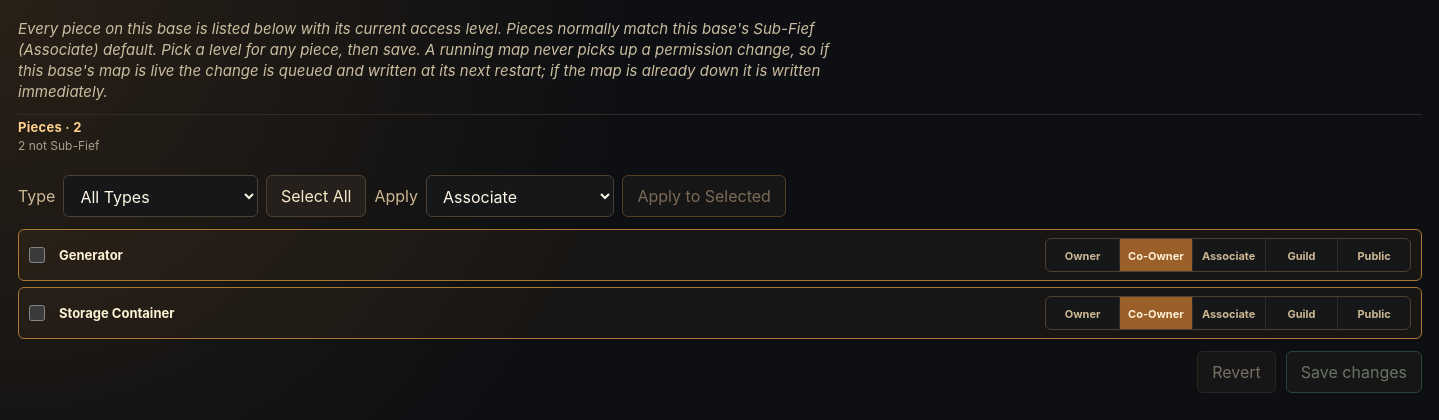
Test: BaseChildPermissionsTab › filters the list by master category, and Select All only selects the currently visible pieces
The width and height of the screenshot is (1439, 420).
Expected: the text "Generator" is shown, [59,247,123,263]
Select "Generators" in the dropdown labelled "Type" at coordinates (161, 196), box [64,175,258,217]
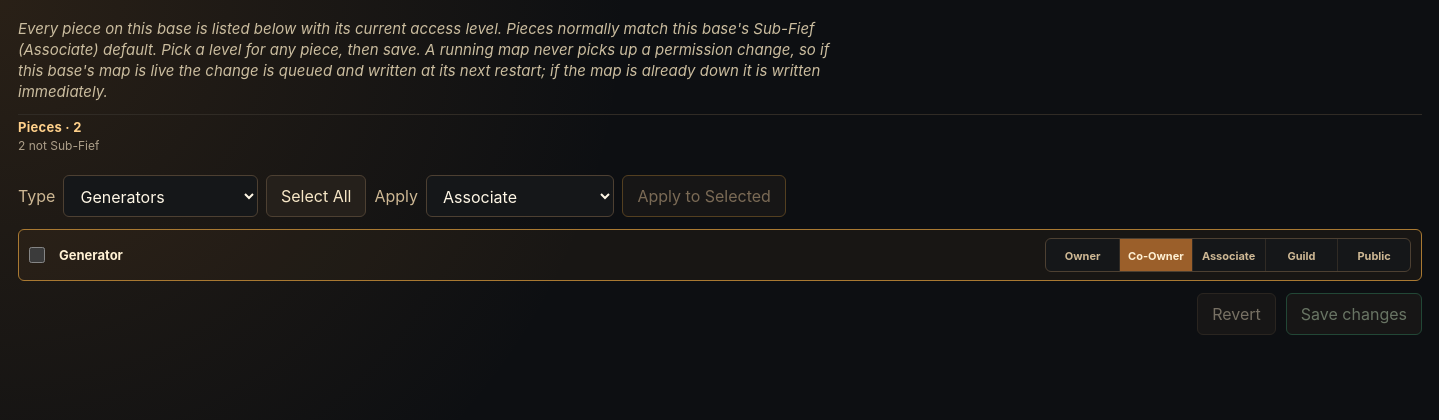
Expected: the text "Generator" is shown, [59,247,123,263]
Expected: the text "Storage Container" is gone
Click the button "Select All".
click(316, 196)  # box [266,175,366,217]
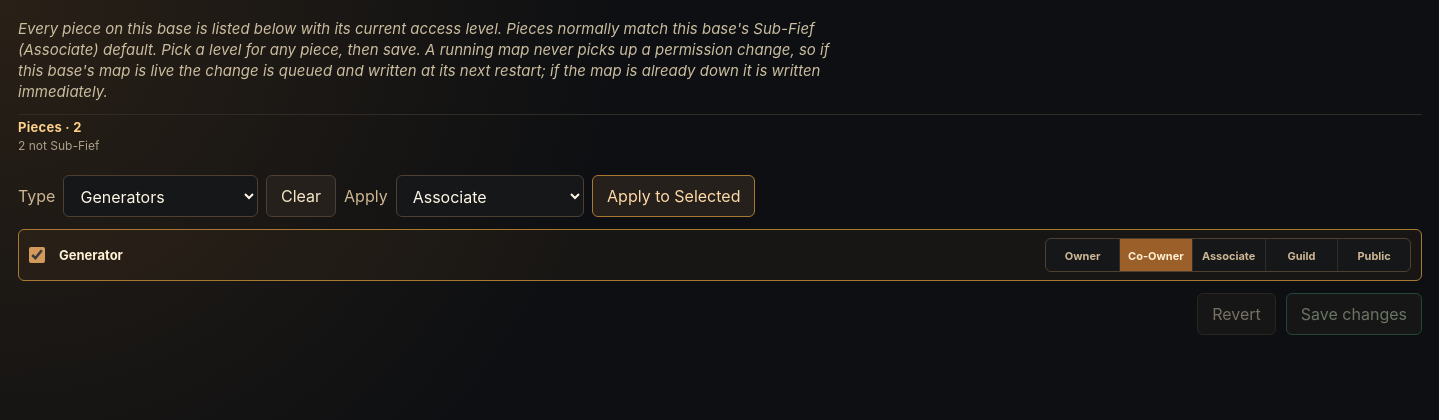
Expected: the checkbox named "Select Generator" is checked, [29,247,45,263]
Select "All Types" in the dropdown labelled "Type" at coordinates (161, 196), box [64,175,258,217]
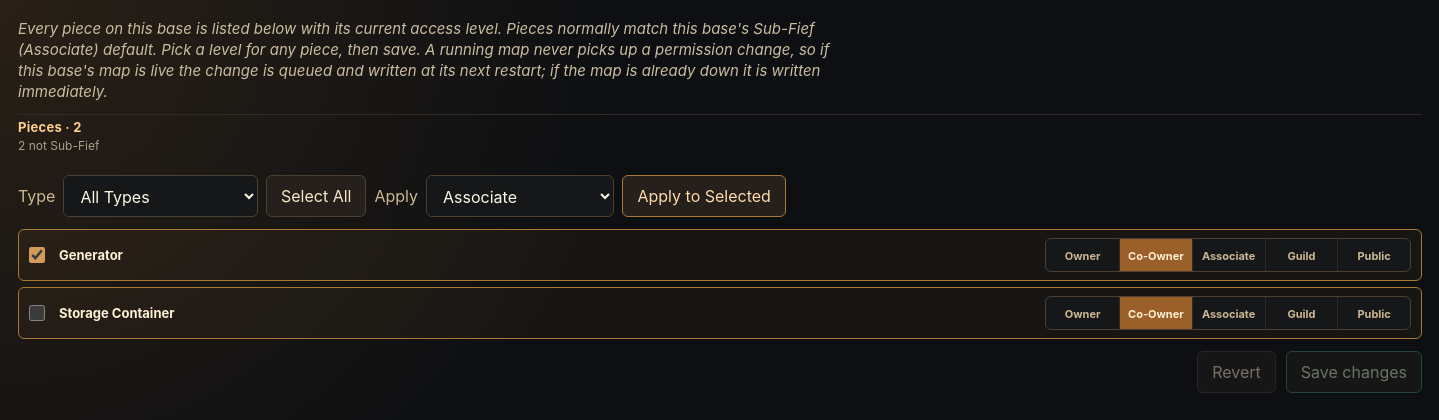
Expected: the checkbox named "Select Generator" is checked, [29,247,45,263]
Expected: the checkbox named "Select Storage Container" is not checked, [29,305,45,321]
